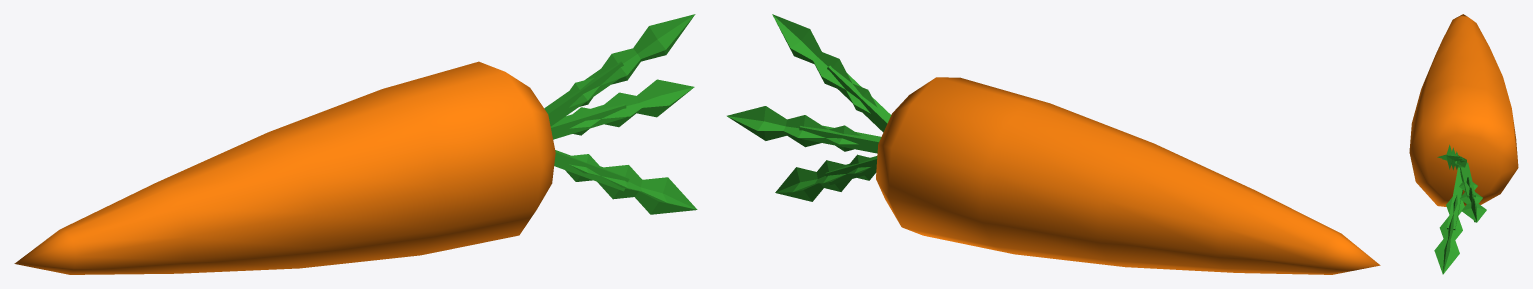
Rendered from Carrot.fbx.
3 renders of one model, left to right at view 1: azimuth 30°, elevation 25°; view 2: azimuth 150°, elevation 25°; view 3: azimuth 270°, elevation 25°, orthographic. The views are drawn at different scales.
Parts seen in each view (by area): view 1: Carrot; view 2: Carrot; view 3: Carrot.
Part boxes in pixels (bbox=[...]): Carrot: bbox=[14, 14, 697, 274]; Carrot: bbox=[727, 14, 1380, 274]; Carrot: bbox=[1409, 14, 1518, 274].
Bounding box in the file's own units: 0.2057 × 0.0551 × 0.0454.
